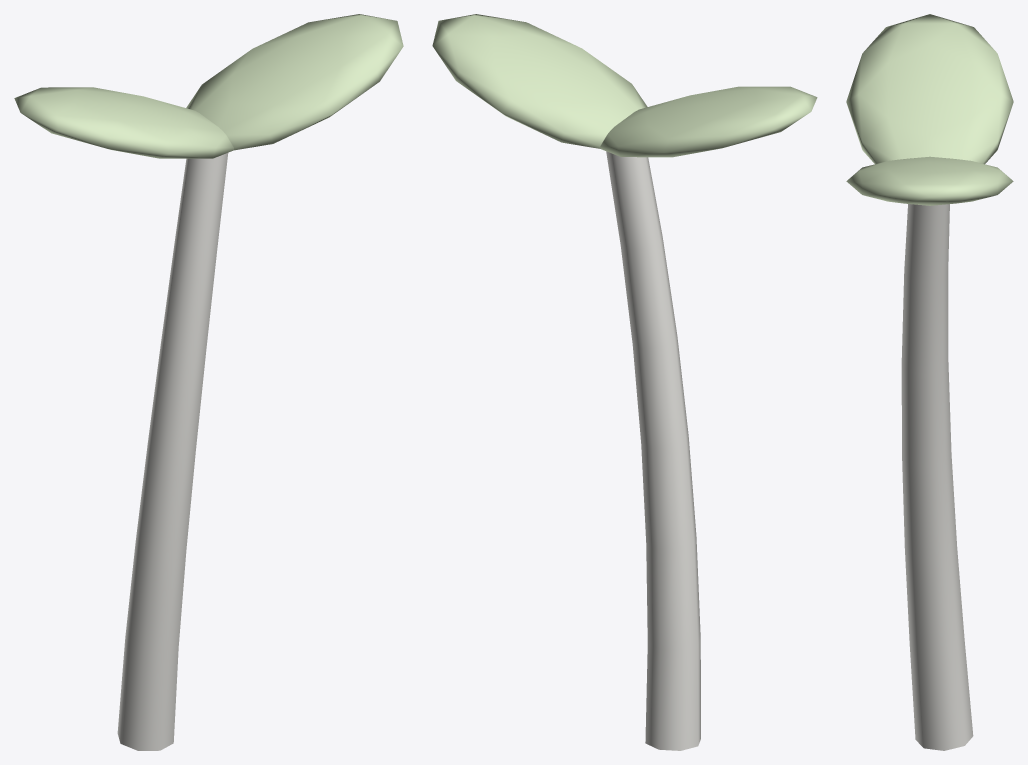
The model's file is sprout_radish_m.glb.
3 views of the same model, side by side, from view 1: azimuth 30°, elevation 25°; view 2: azimuth 150°, elevation 25°; view 3: azimuth 270°, elevation 25° (orthographic).
Visible parts, largest first — view 1: stem, cot1, cot-1; view 2: stem, cot1, cot-1; view 3: stem, cot-1, cot1.
Part boxes in pixels (bbox=[...]): stem: bbox=[117, 153, 228, 750]; cot1: bbox=[186, 14, 403, 150]; cot-1: bbox=[14, 87, 233, 158]; stem: bbox=[606, 151, 700, 750]; cot1: bbox=[432, 14, 647, 148]; cot-1: bbox=[600, 86, 817, 157]; stem: bbox=[901, 204, 973, 750]; cot-1: bbox=[846, 14, 1013, 164]; cot1: bbox=[846, 156, 1013, 205].
Size of the model in its own units: 0.0282 by 0.0477 by 0.0109.
